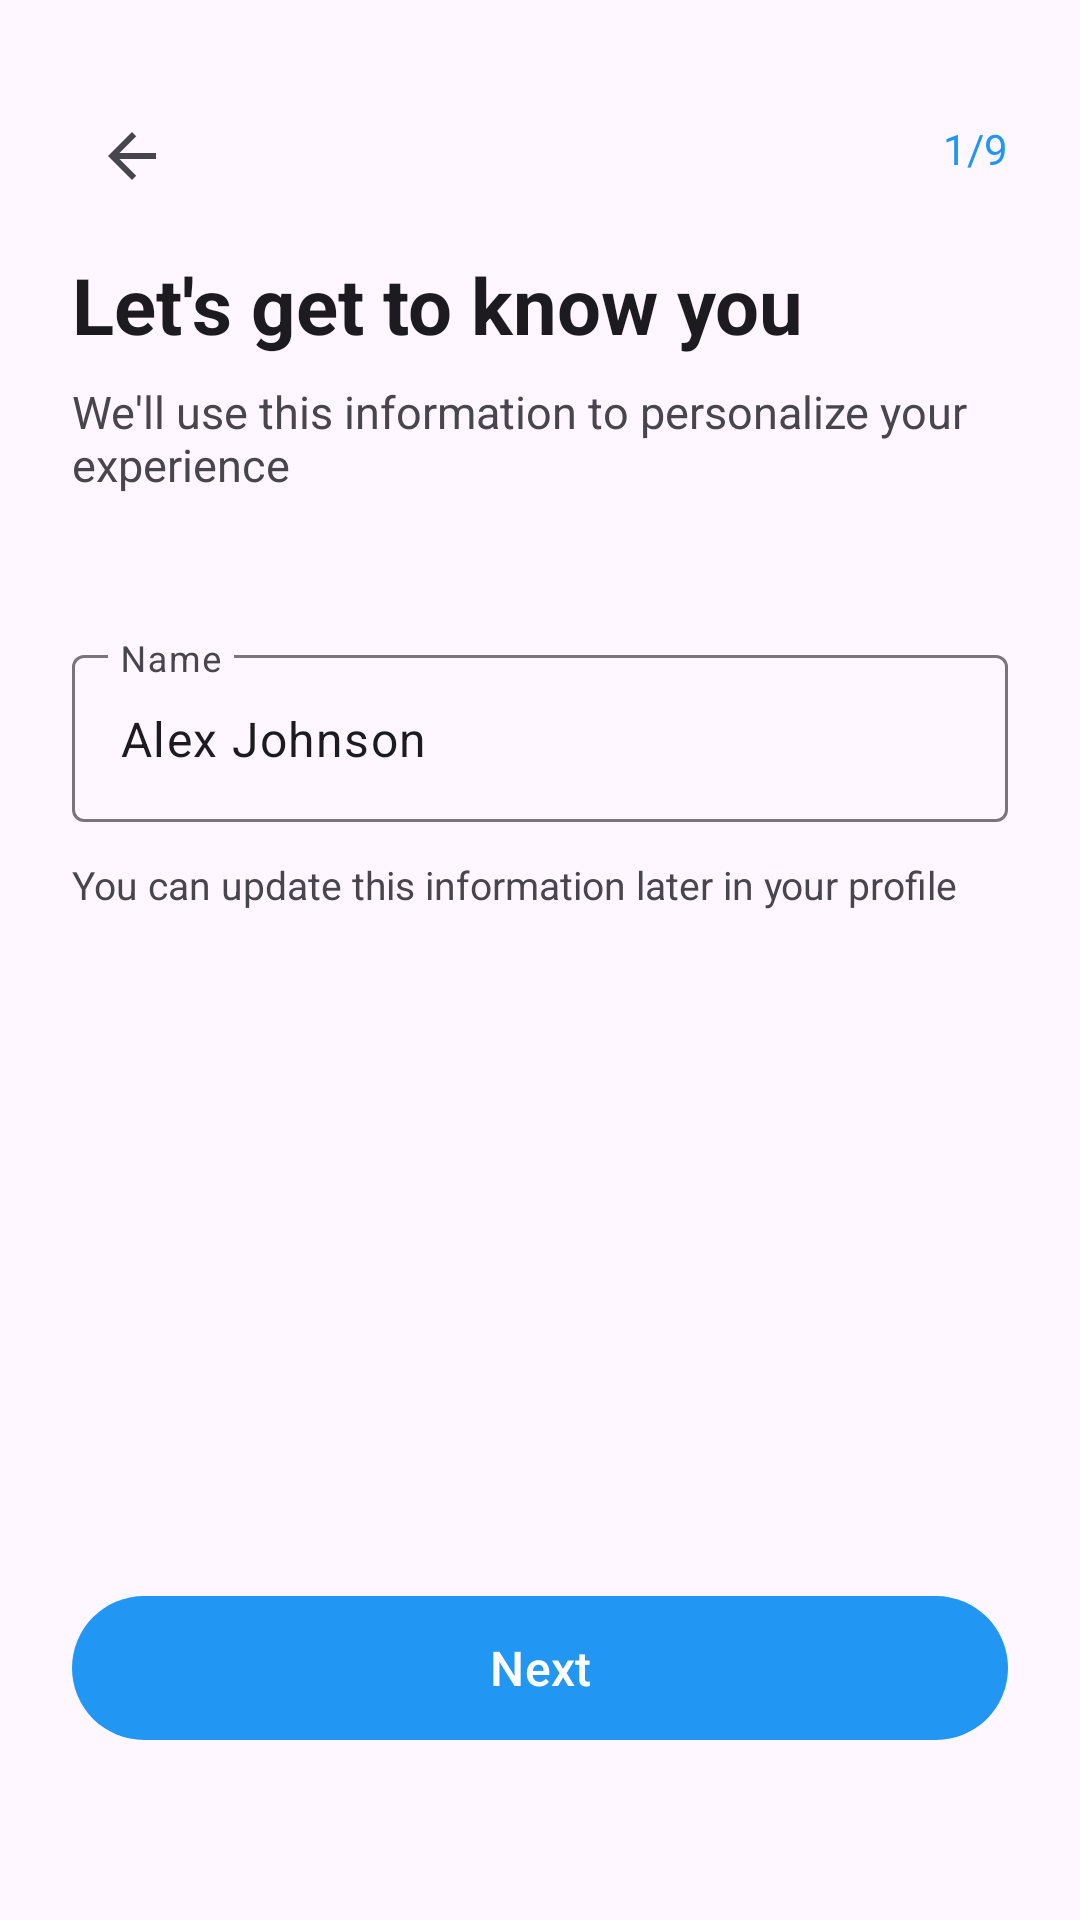

Where icons sit on this 1080x1920 app screen, as [x1, y1, x2, y2]:
Go back: [108, 132, 156, 180]
